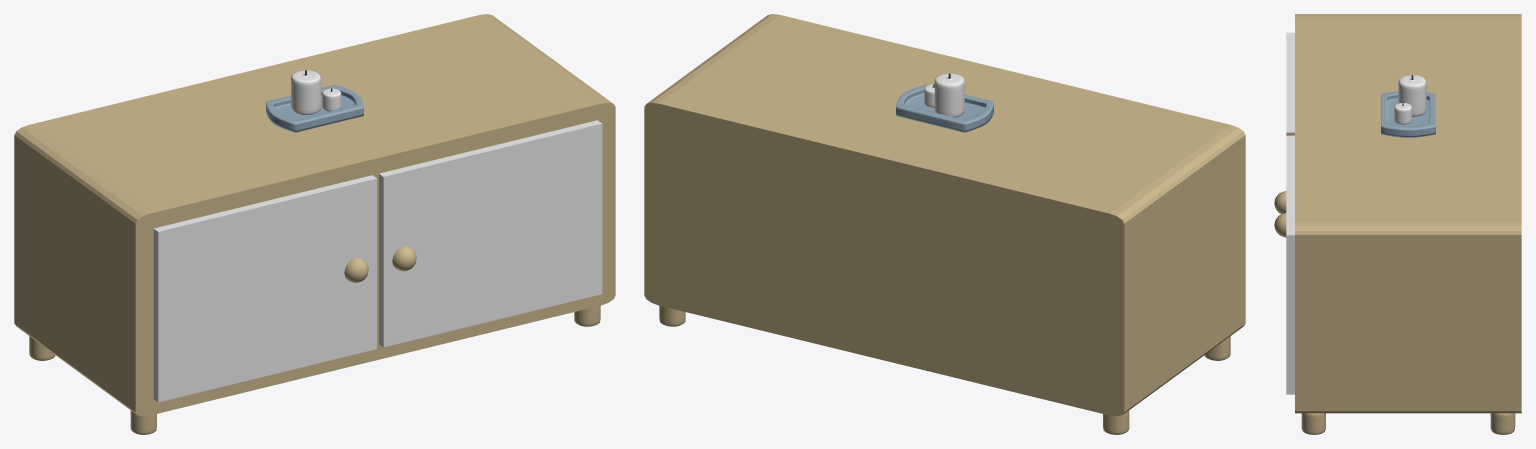
The model's file is MuebleBajo.fbx.
The picture shows the model from 3 angles, left to right: view 1: azimuth 30°, elevation 25°; view 2: azimuth 150°, elevation 25°; view 3: azimuth 270°, elevation 25°; orthographic projection. The views are drawn at different scales.
Visible parts, largest first — view 1: mueblelargo, Cube.006, Cube.005; view 2: mueblelargo, Cube.006, Cube.005; view 3: mueblelargo, Cube.006, Cube.005, Cube.007.
Boxes of the visible parts, x1=… form: mueblelargo: x1=14, y1=14, x2=615, y2=434; Cube.006: x1=266, y1=85, x2=363, y2=132; Cube.005: x1=291, y1=70, x2=320, y2=115; mueblelargo: x1=644, y1=14, x2=1245, y2=434; Cube.006: x1=896, y1=85, x2=993, y2=132; Cube.005: x1=934, y1=73, x2=964, y2=117; mueblelargo: x1=1274, y1=14, x2=1521, y2=434; Cube.006: x1=1381, y1=91, x2=1435, y2=137; Cube.005: x1=1398, y1=75, x2=1426, y2=116; Cube.007: x1=1394, y1=103, x2=1411, y2=124.
Bounding box in the file's own units: 68.13 × 36.53 × 32.58.
